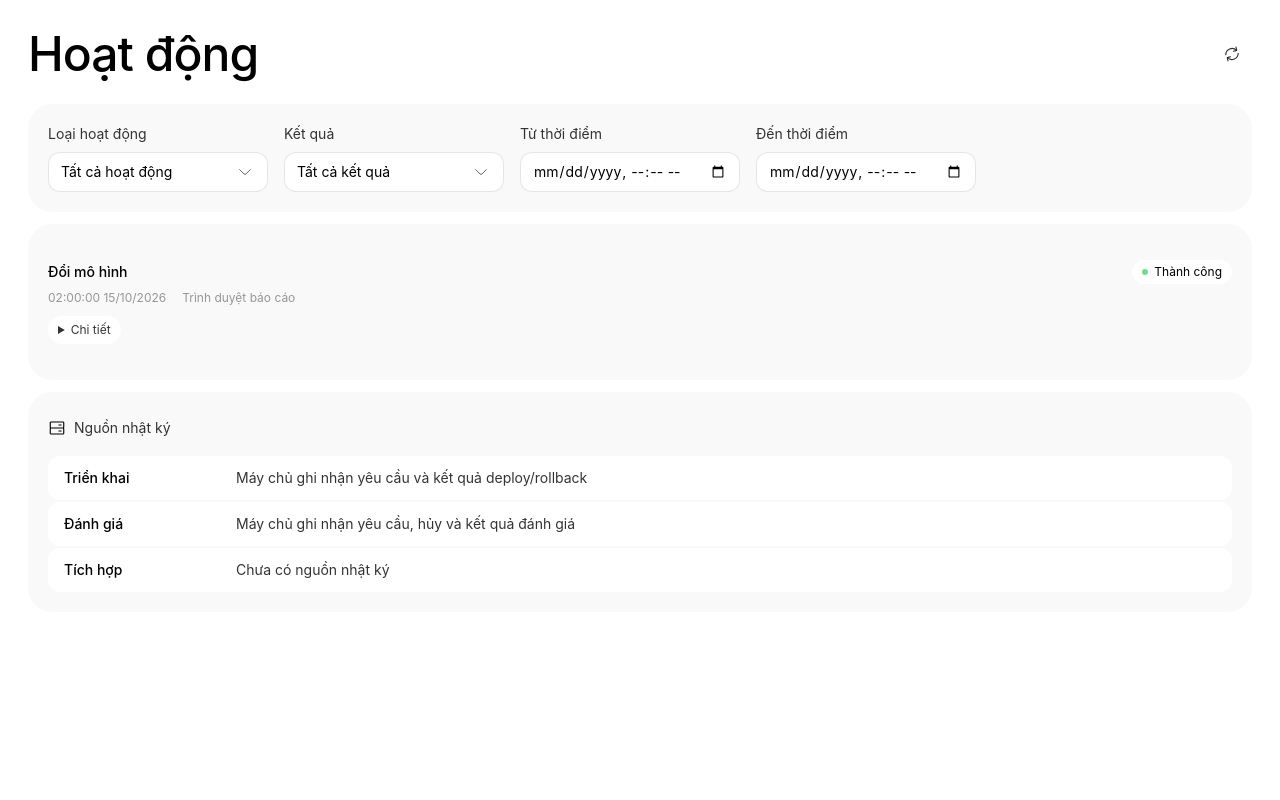
Test: WorkspaceActivity › shows source, actor, resource and model/client/session details with the raw event code
The width and height of the screenshot is (1280, 800).
Expected: the text "Trình duyệt báo cáo" is shown, [182,288,295,308]
Click the heading "Chi tiết": (84, 330) [48,316,121,344]
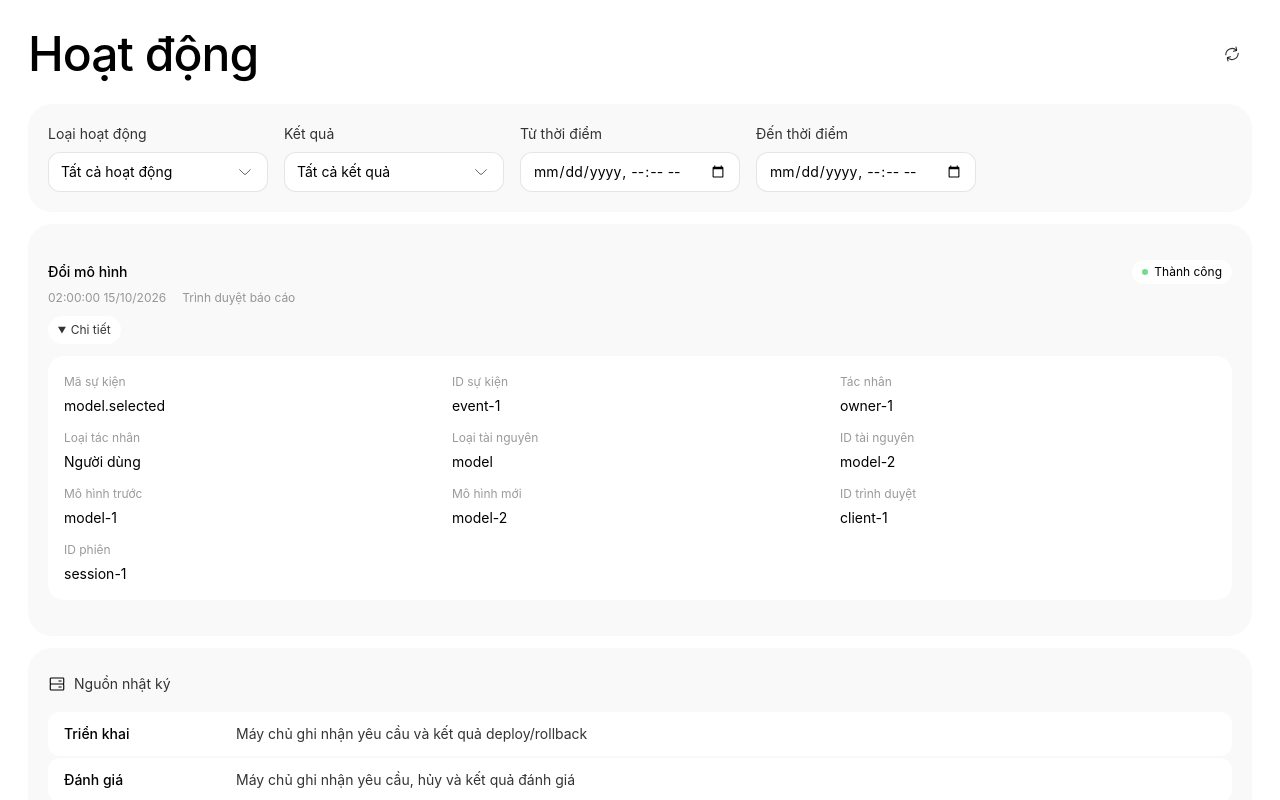
Expected: the text "owner-1" is shown, [840,397,893,414]
Expected: the text "model-1" is shown, [64,509,117,526]
Expected: the text "model-2" below "ID tài nguyên" is shown, [840,453,895,470]
